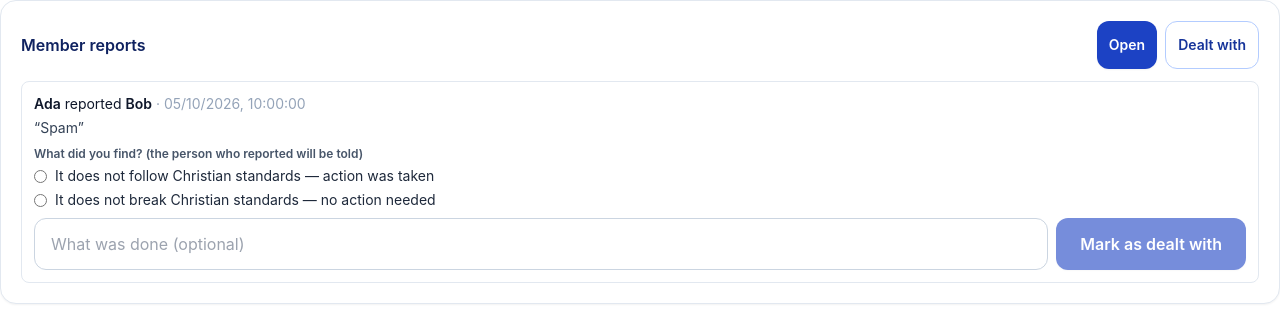
Scenario: ReportsList › shows open reports and marks one as dealt with
Expected: the text "“Spam”" is shown, x1=34 y1=119 x2=84 y2=136
Expected: the button "Mark as dealt with" is disabled, x1=1056 y1=218 x2=1246 y2=270
Step 1. Click the radio button labelled "It does not break Christian standards — no action needed" → (40, 200), box x1=34 y1=194 x2=47 y2=207
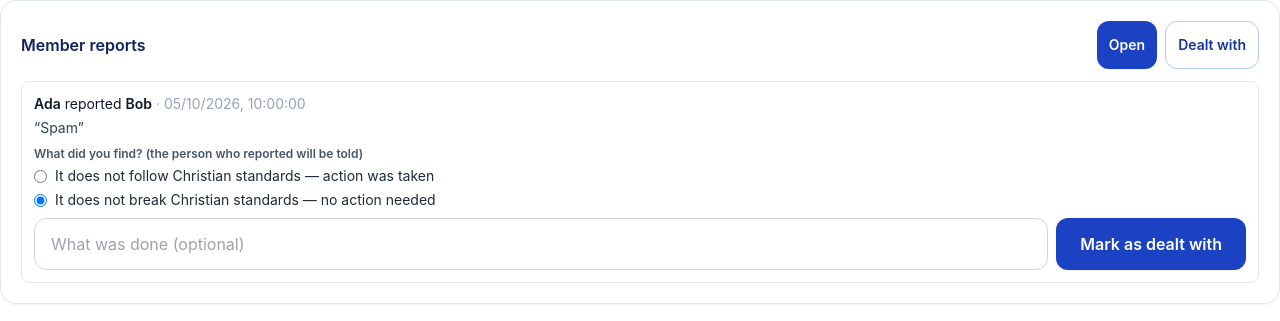
Step 2. Type "Warned" into the field named "Note (optional)" → (541, 244), box x1=34 y1=218 x2=1048 y2=270
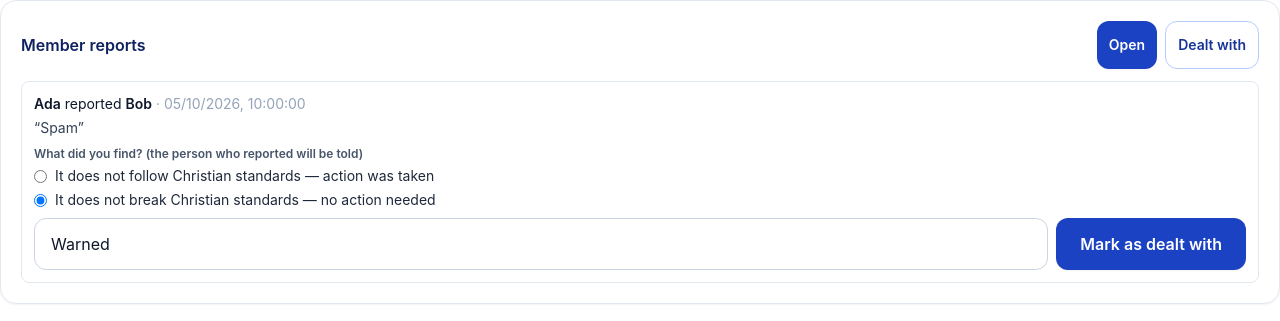
Step 3. Click the button "Mark as dealt with" → (1151, 244), box x1=1056 y1=218 x2=1246 y2=270
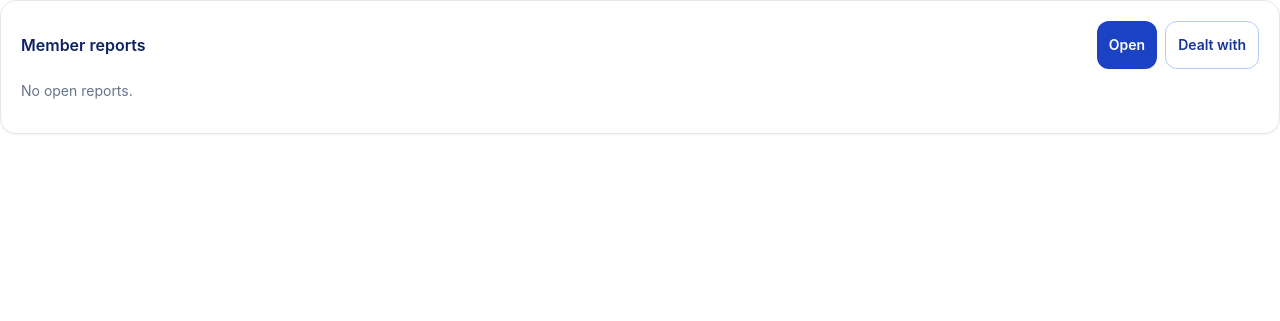
Expected: the text "No open reports." is shown, x1=21 y1=82 x2=133 y2=99
